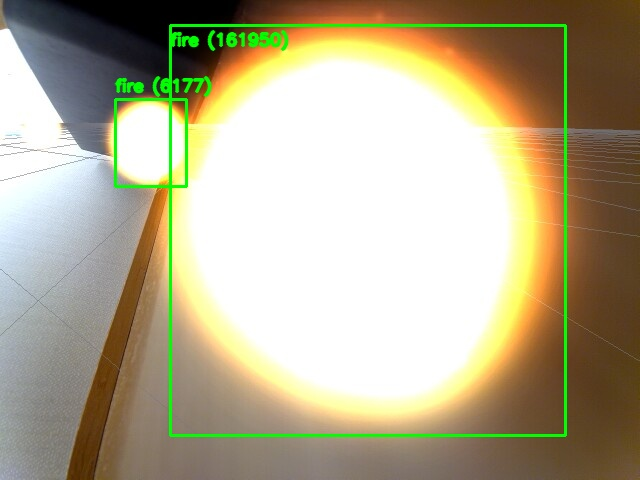fire: (170, 25, 565, 435), (115, 99, 186, 186)
